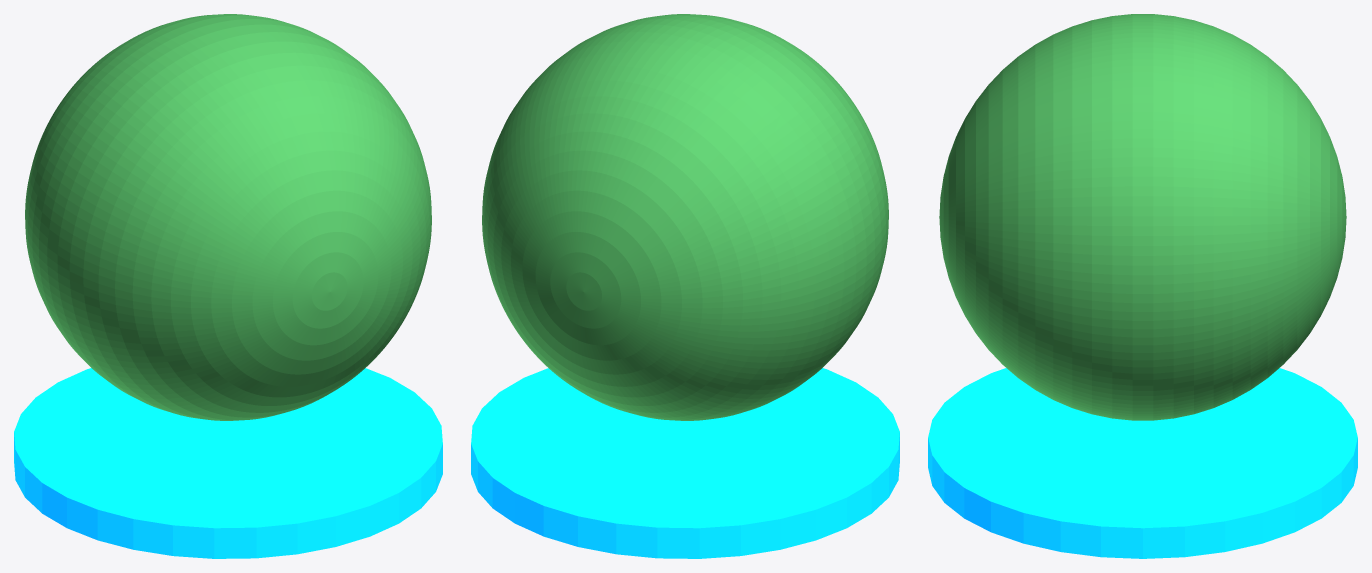
Rendered from sports_tennis_ball.glb.
3 views of the same model, side by side, from view 1: azimuth 30°, elevation 25°; view 2: azimuth 150°, elevation 25°; view 3: azimuth 270°, elevation 25° (orthographic).
Parts seen in each view (by area): view 1: 04_04_Popular_Sports_Tennis_Ball_part_01, 04_04_Popular_Sports_Tennis_Ball_ROOT_base; view 2: 04_04_Popular_Sports_Tennis_Ball_part_01, 04_04_Popular_Sports_Tennis_Ball_ROOT_base; view 3: 04_04_Popular_Sports_Tennis_Ball_part_01, 04_04_Popular_Sports_Tennis_Ball_ROOT_base.
Part boxes in pixels (x1,y1,x2,y2): 04_04_Popular_Sports_Tennis_Ball_part_01: [25, 14, 431, 420]; 04_04_Popular_Sports_Tennis_Ball_ROOT_base: [14, 368, 442, 558]; 04_04_Popular_Sports_Tennis_Ball_part_01: [482, 14, 888, 420]; 04_04_Popular_Sports_Tennis_Ball_ROOT_base: [471, 368, 899, 558]; 04_04_Popular_Sports_Tennis_Ball_part_01: [939, 14, 1346, 420]; 04_04_Popular_Sports_Tennis_Ball_ROOT_base: [928, 368, 1357, 558].
Size of the model in its own units: 0.76 by 0.8491 by 0.76.
